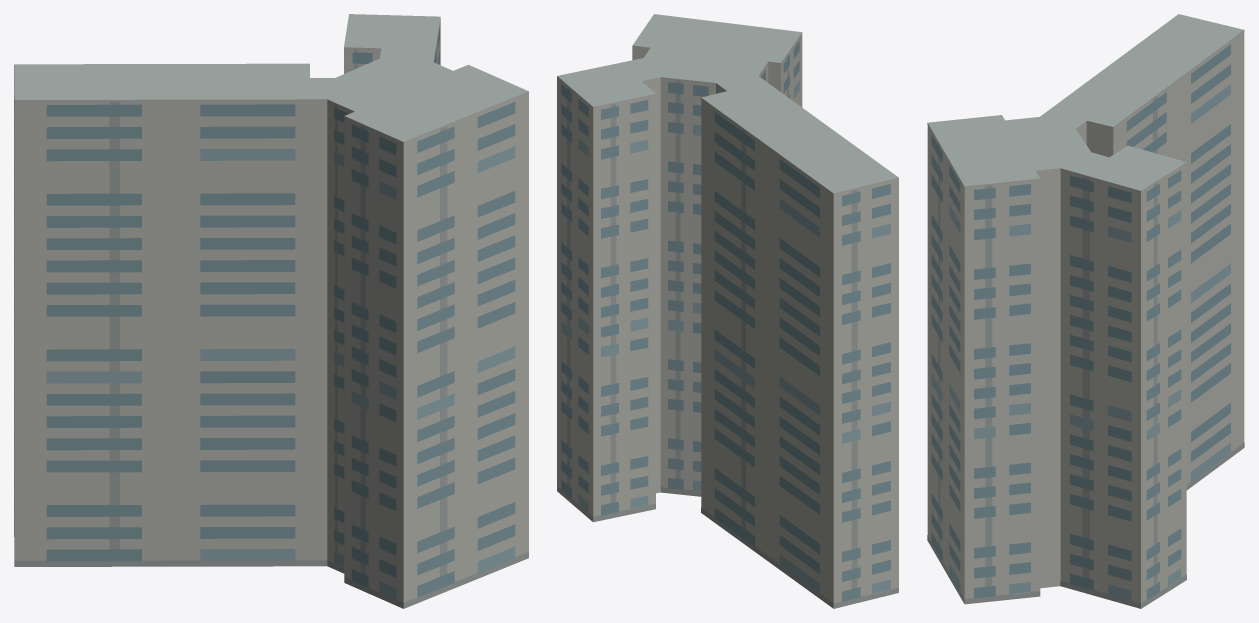
File: residential-40a3db89-5e93-4dd3-954f-2f1e6e0f3374.glb
3 views of the same model, side by side, from view 1: azimuth 30°, elevation 25°; view 2: azimuth 150°, elevation 25°; view 3: azimuth 270°, elevation 25° (orthographic). The views are drawn at different scales.
Parts seen in each view (by area): view 1: residential-40a3db89-5e93-4dd3-954f-2f1e6e0f3374.tmp; view 2: residential-40a3db89-5e93-4dd3-954f-2f1e6e0f3374.tmp; view 3: residential-40a3db89-5e93-4dd3-954f-2f1e6e0f3374.tmp.
Boxes of the visible parts, x1=… form: residential-40a3db89-5e93-4dd3-954f-2f1e6e0f3374.tmp: x1=14, y1=14, x2=528, y2=608; residential-40a3db89-5e93-4dd3-954f-2f1e6e0f3374.tmp: x1=557, y1=14, x2=898, y2=608; residential-40a3db89-5e93-4dd3-954f-2f1e6e0f3374.tmp: x1=927, y1=14, x2=1244, y2=608.
Bounding box in the file's own units: 54.49 × 60 × 41.24.
